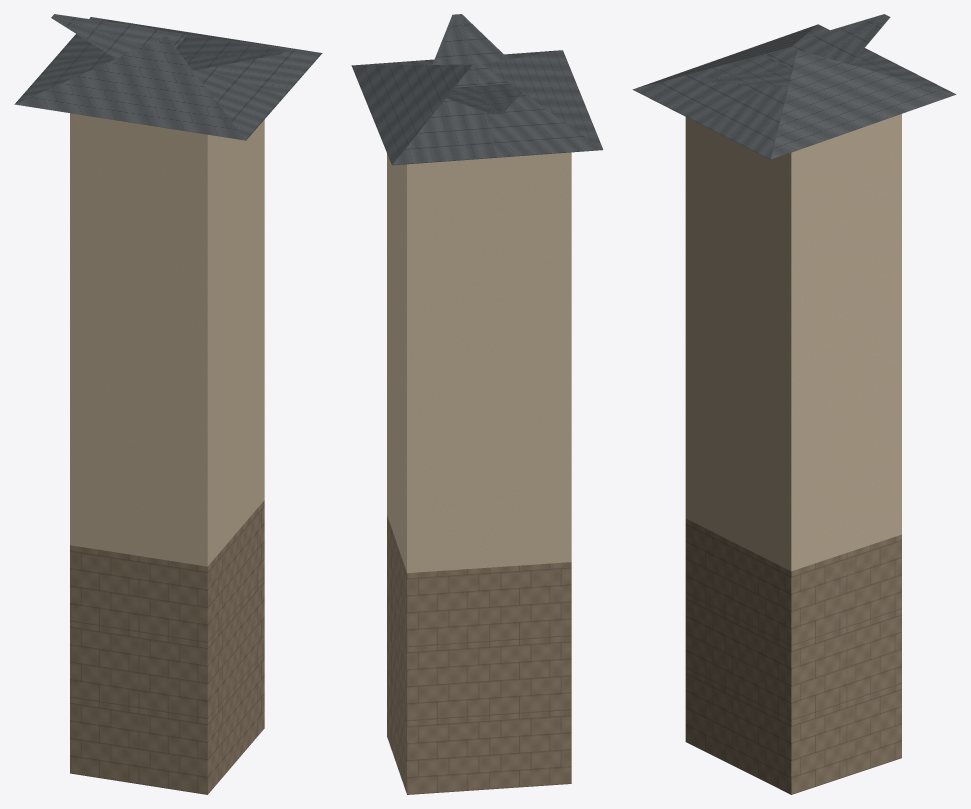
The model's file is bld_c6_9_483.gltf.
3 renders of one model, left to right at view 1: azimuth 30°, elevation 25°; view 2: azimuth 150°, elevation 25°; view 3: azimuth 270°, elevation 25°, orthographic. The views are drawn at different scales.
Parts seen in each view (by area): view 1: bld_c6_9_483; view 2: bld_c6_9_483; view 3: bld_c6_9_483.
Part boxes in pixels (x1,y1,x2,y2): bld_c6_9_483: [14, 14, 322, 794]; bld_c6_9_483: [351, 14, 603, 794]; bld_c6_9_483: [632, 14, 956, 794].
Bounding box in the file's own units: 6.63 × 16 × 6.7.
Materials: 3 (3 with a texture image).
